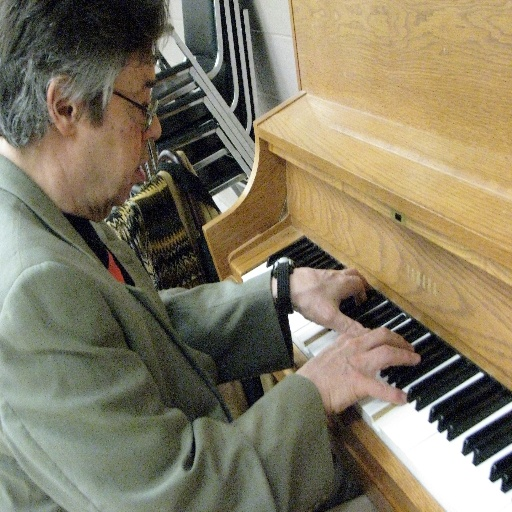hand: (296, 325, 422, 417), (291, 265, 373, 334)
